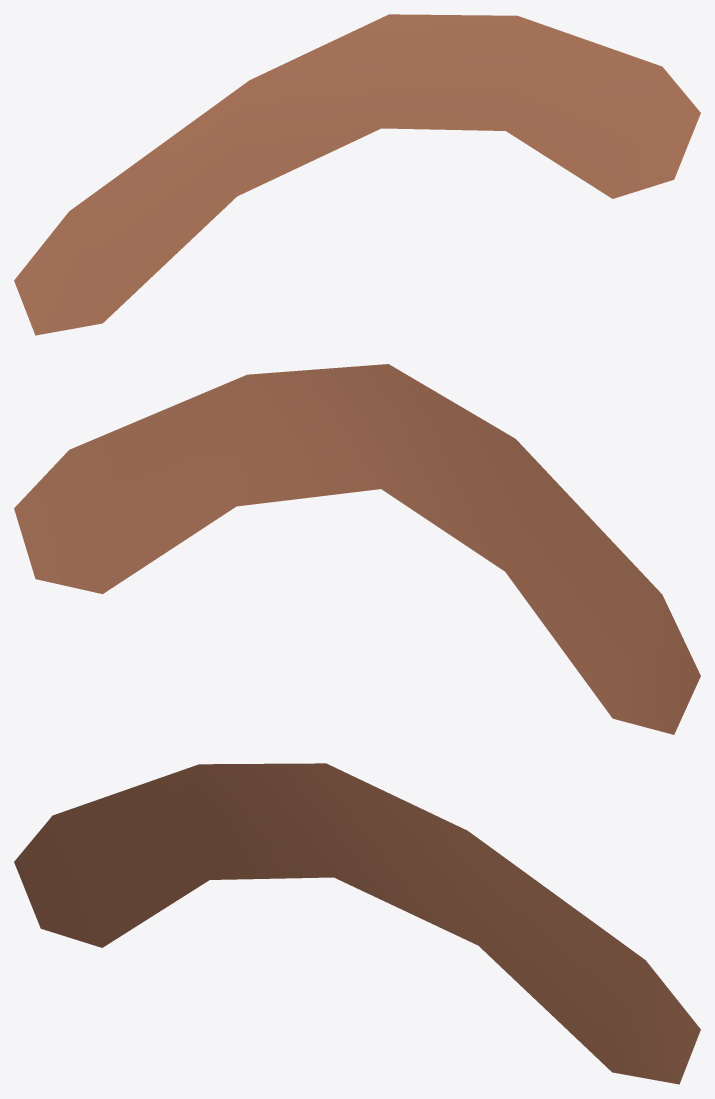
The model's file is Mouth_White_4.fbx.
The picture shows the model from 3 angles, top to bottom: view 1: azimuth 30°, elevation 25°; view 2: azimuth 150°, elevation 25°; view 3: azimuth 330°, elevation 25°; orthographic projection.
Visible parts, largest first — view 1: Mouth_White_4; view 2: Mouth_White_4; view 3: Mouth_White_4.
Part boxes in pixels (x1,y1,x2,y2): Mouth_White_4: (14,14,700,335); Mouth_White_4: (14,364,700,734); Mouth_White_4: (14,763,700,1084).
Bounding box in the file's own units: 6.25 × 2.35 × 0.5357.
